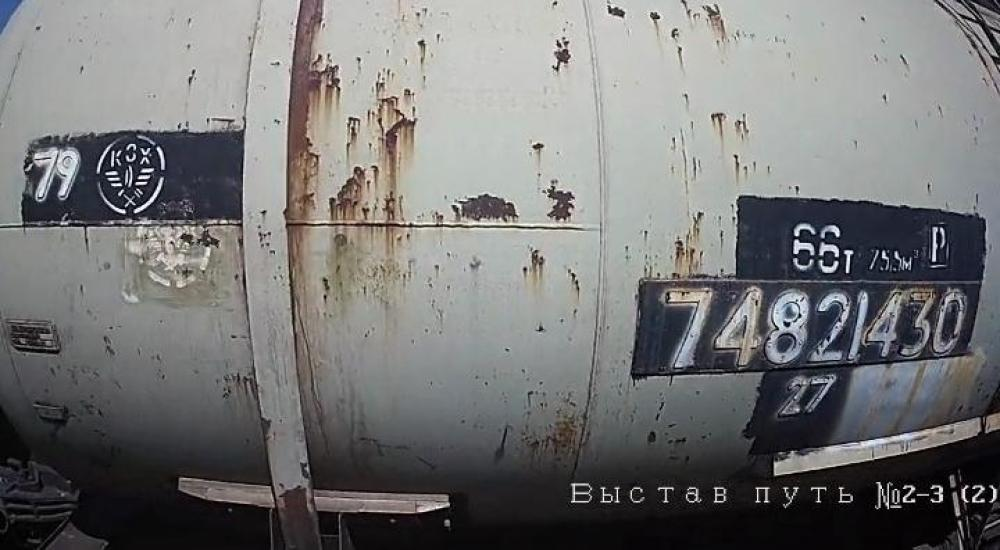Wagon-number: (654, 282, 971, 369)
